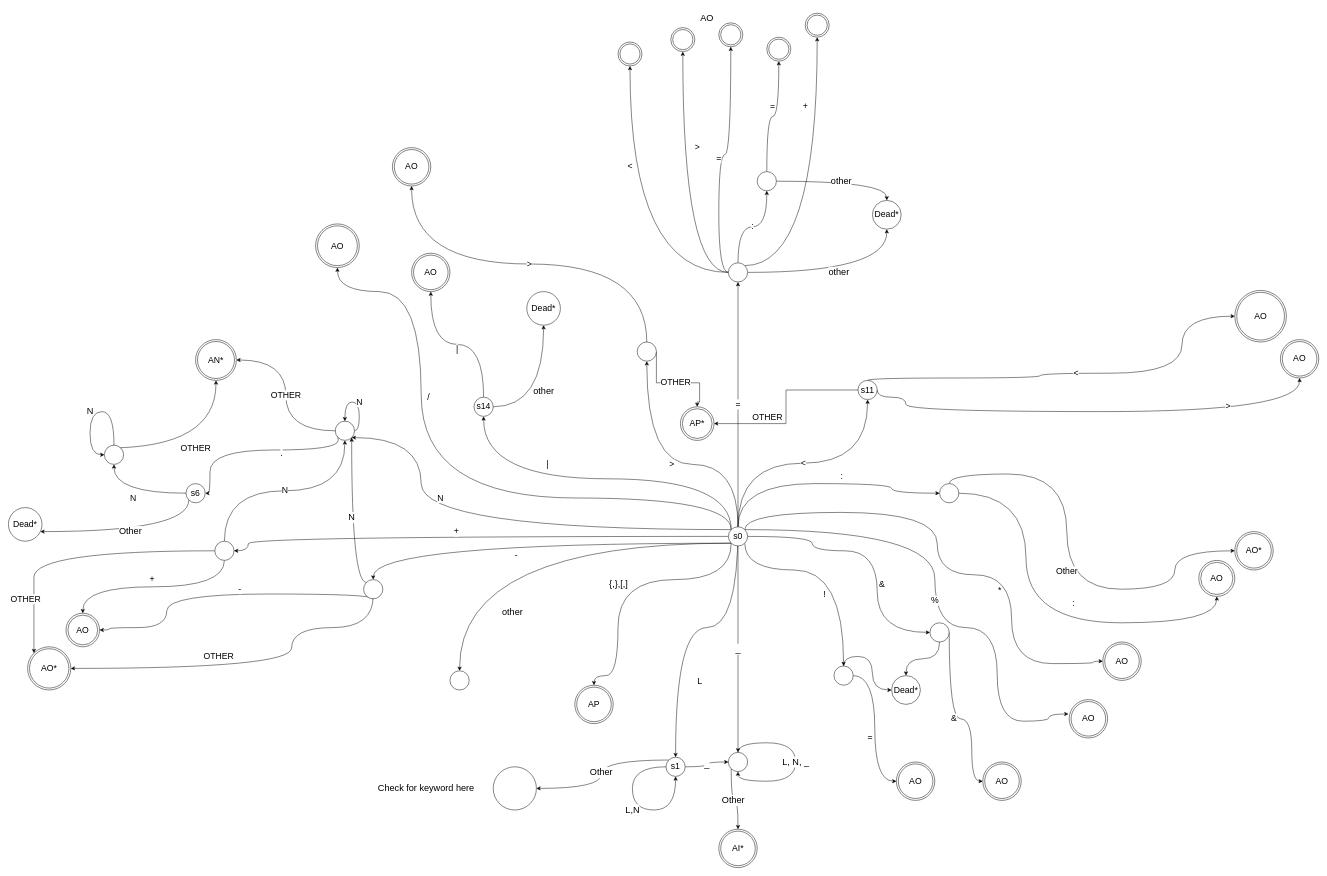
Some shapes in this 1327 by 876 pixel diagram are drawn without their labels. Each missing label, with the box of its shape:
Dead: (450, 670, 469, 690)
s10: (939, 483, 959, 503)
s12: (728, 262, 748, 282)
s13: (637, 342, 656, 361)
s15: (757, 171, 776, 191)
s2: (728, 752, 748, 772)
s3: (335, 421, 354, 440)
s4: (214, 541, 234, 560)
s5: (363, 579, 383, 599)
s7: (104, 445, 124, 464)
s8: (834, 666, 853, 685)
s9: (930, 622, 949, 642)
special*: (493, 766, 536, 810)
